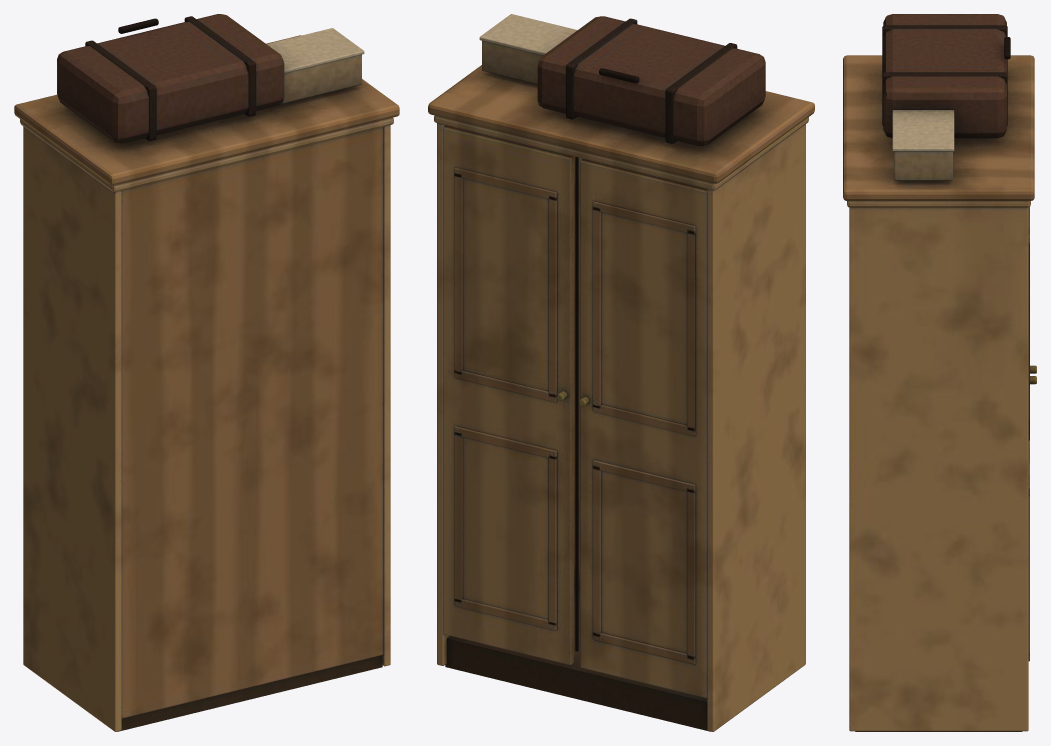
Rendered from sz_schrank.glb.
The picture shows the model from 3 angles, left to right: view 1: azimuth 30°, elevation 25°; view 2: azimuth 150°, elevation 25°; view 3: azimuth 270°, elevation 25°; orthographic projection. The views are drawn at different scales.
Parts seen in each view (by area): view 1: sz_schrank; view 2: sz_schrank; view 3: sz_schrank.
Part boxes in pixels (bbox=[...]): sz_schrank: bbox=[14, 14, 399, 731]; sz_schrank: bbox=[428, 14, 814, 731]; sz_schrank: bbox=[843, 14, 1036, 731].
Bounding box in the file's own units: 1.05 × 2.17 × 0.627.
Materials: 1 (1 with a texture image).
